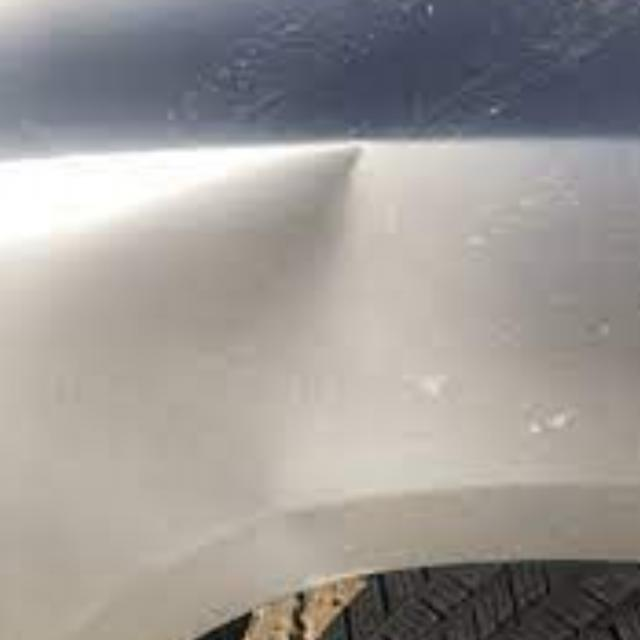dents: (155, 141, 402, 500)
